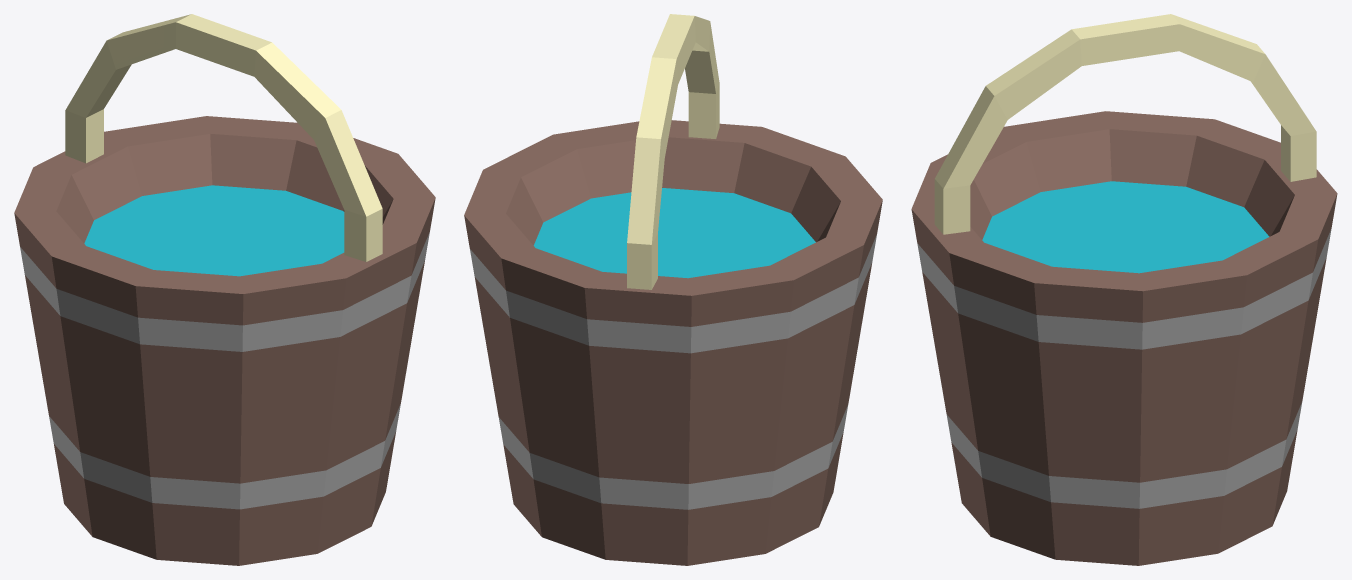
The model's file is prop_019.fbx.
3 renders of one model, left to right at view 1: azimuth 30°, elevation 25°; view 2: azimuth 150°, elevation 25°; view 3: azimuth 270°, elevation 25°, orthographic.
Visible parts, largest first — view 1: prop.019; view 2: prop.019; view 3: prop.019.
Part boxes in pixels (x1,y1,x2,y2): prop.019: [14, 14, 435, 565]; prop.019: [464, 14, 882, 565]; prop.019: [911, 14, 1337, 565].
Bounding box in the file's own units: 86.44 × 105 × 86.43.
1 material, 1 textured.
